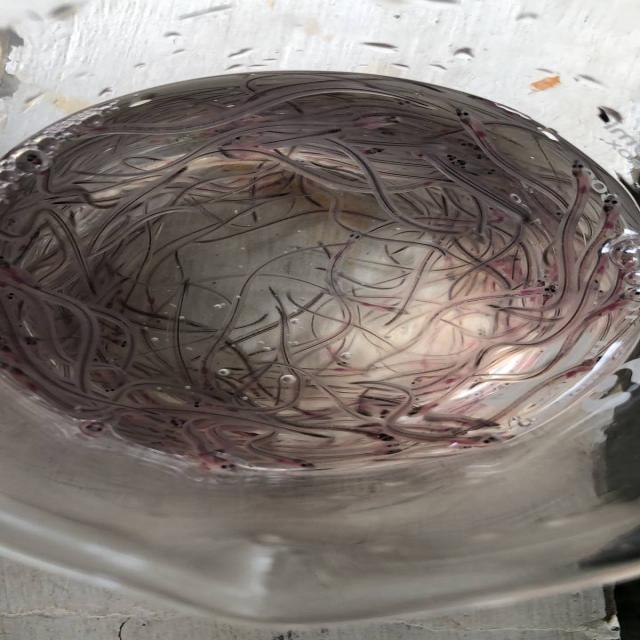glass_eel: (605, 241, 636, 262), (212, 458, 247, 475), (18, 152, 48, 169), (360, 142, 391, 158), (597, 193, 624, 211), (566, 156, 588, 177), (475, 416, 505, 431), (294, 456, 322, 472), (457, 137, 485, 152), (405, 405, 431, 421), (84, 419, 107, 437), (374, 408, 401, 423), (366, 431, 402, 442), (542, 282, 565, 298), (168, 417, 194, 431), (340, 230, 365, 244), (1, 290, 26, 304), (379, 114, 408, 126), (376, 124, 402, 137), (476, 434, 503, 446), (95, 380, 118, 394), (444, 425, 468, 438), (381, 446, 407, 458), (452, 106, 474, 120), (330, 356, 353, 369), (619, 286, 640, 300), (549, 206, 568, 221), (109, 338, 131, 350), (376, 441, 402, 451), (187, 398, 208, 410), (23, 335, 44, 347), (395, 95, 414, 108), (226, 131, 245, 144), (439, 150, 458, 163), (411, 150, 433, 161), (481, 166, 501, 178), (0, 255, 13, 273), (454, 442, 475, 452), (410, 375, 427, 387), (449, 159, 471, 168), (469, 152, 486, 162), (484, 204, 498, 214), (252, 390, 266, 399), (205, 386, 217, 392)
